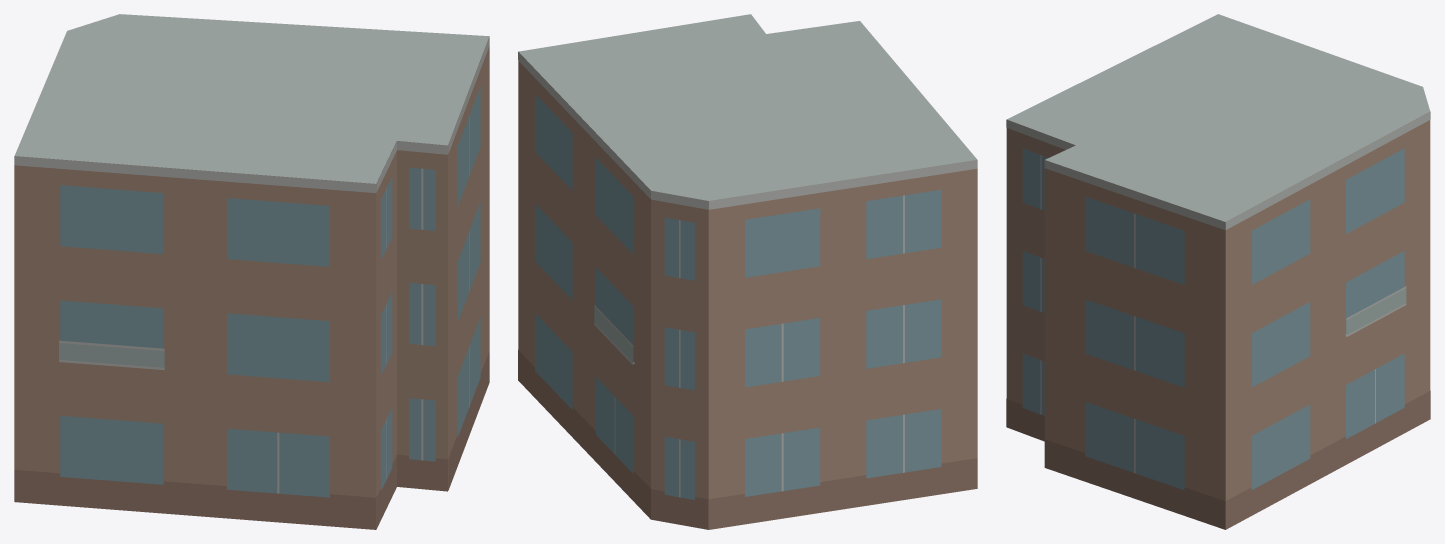
Rendered from survey-upis-32485021.glb.
3 views of the same model, side by side, from view 1: azimuth 30°, elevation 25°; view 2: azimuth 150°, elevation 25°; view 3: azimuth 270°, elevation 25° (orthographic). The views are drawn at different scales.
Visible parts, largest first — view 1: survey-upis-32485021.tmp; view 2: survey-upis-32485021.tmp; view 3: survey-upis-32485021.tmp.
Boxes of the visible parts, x1,y1,x2,y2 form: survey-upis-32485021.tmp: (14,14,489,529); survey-upis-32485021.tmp: (518,14,977,529); survey-upis-32485021.tmp: (1006,14,1430,529).
Bounding box in the file's own units: 13.2 × 9.1 × 11.37.
